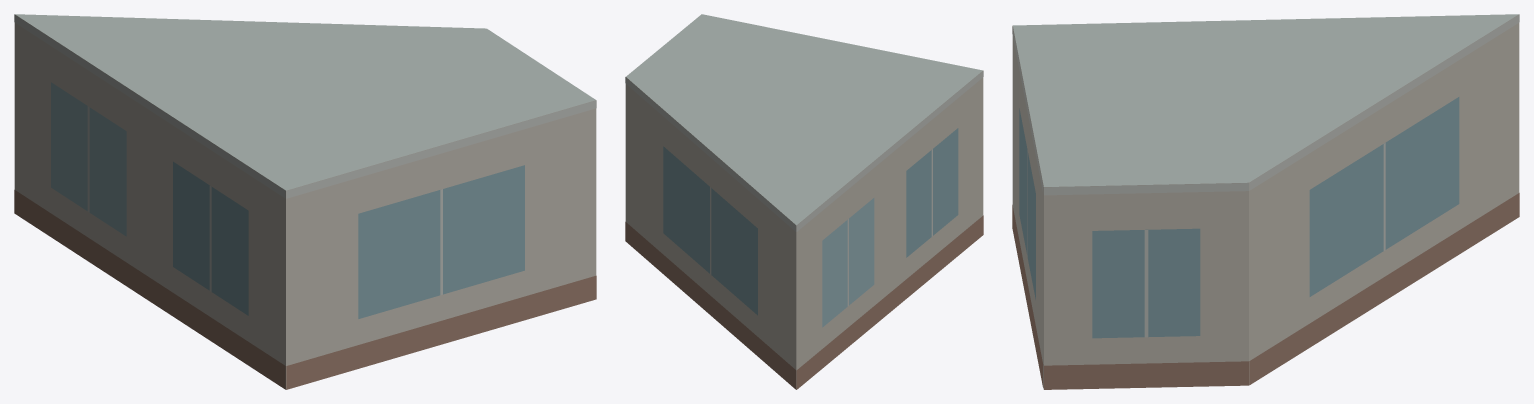
The model's file is survey-upis-32732307.glb.
The picture shows the model from 3 angles, left to right: view 1: azimuth 30°, elevation 25°; view 2: azimuth 150°, elevation 25°; view 3: azimuth 270°, elevation 25°; orthographic projection. The views are drawn at different scales.
Visible parts, largest first — view 1: survey-upis-32732307.tmp; view 2: survey-upis-32732307.tmp; view 3: survey-upis-32732307.tmp.
Boxes of the visible parts, x1,y1,x2,y2 form: survey-upis-32732307.tmp: [14, 14, 596, 389]; survey-upis-32732307.tmp: [625, 14, 983, 389]; survey-upis-32732307.tmp: [1012, 14, 1519, 389].
Bounding box in the file's own units: 5.59 × 3.05 × 6.92.
